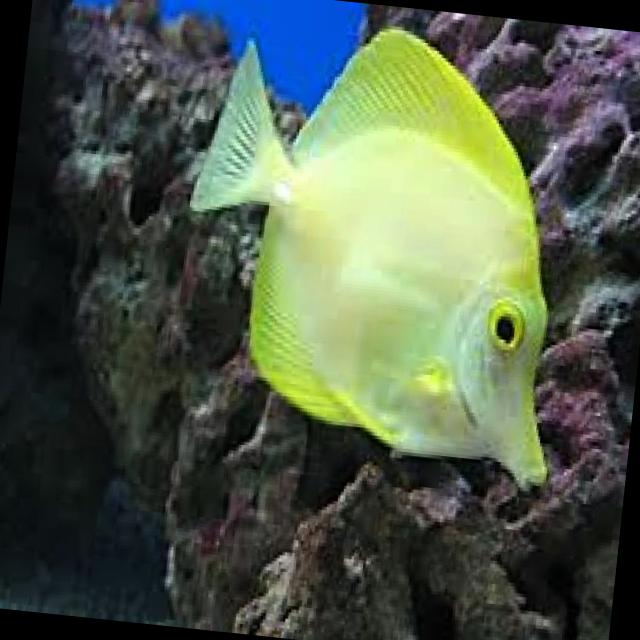YellowTang: (152, 0, 614, 519)
